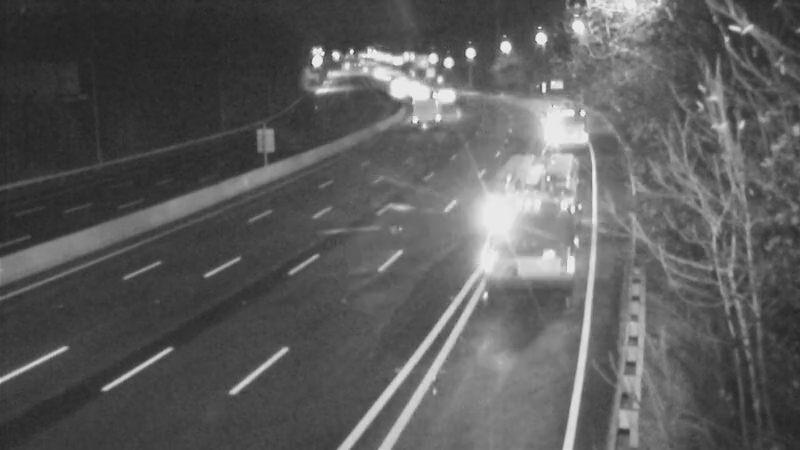vehicle: (472, 185, 552, 265), (419, 70, 469, 120), (532, 92, 582, 142), (395, 79, 445, 129)
